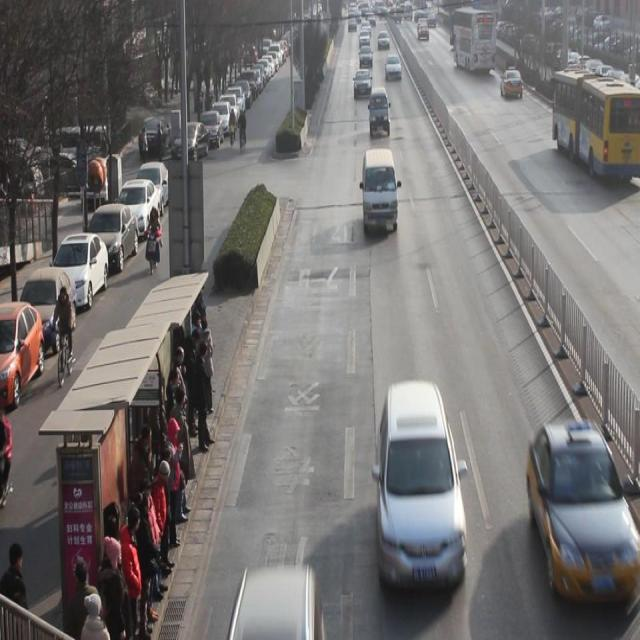car: (527, 420, 640, 605), (378, 380, 468, 585), (228, 563, 329, 640), (501, 71, 523, 100), (354, 70, 372, 99), (386, 54, 403, 83), (358, 45, 374, 70)
truck: (363, 149, 398, 234), (369, 86, 391, 140)
van: (549, 65, 640, 180)
